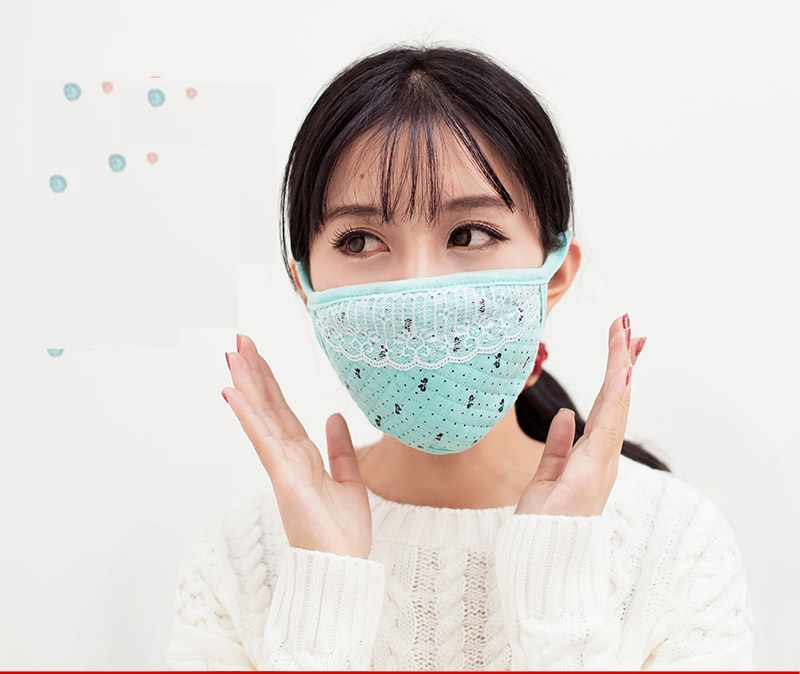face_mask: (305, 149, 547, 454)
